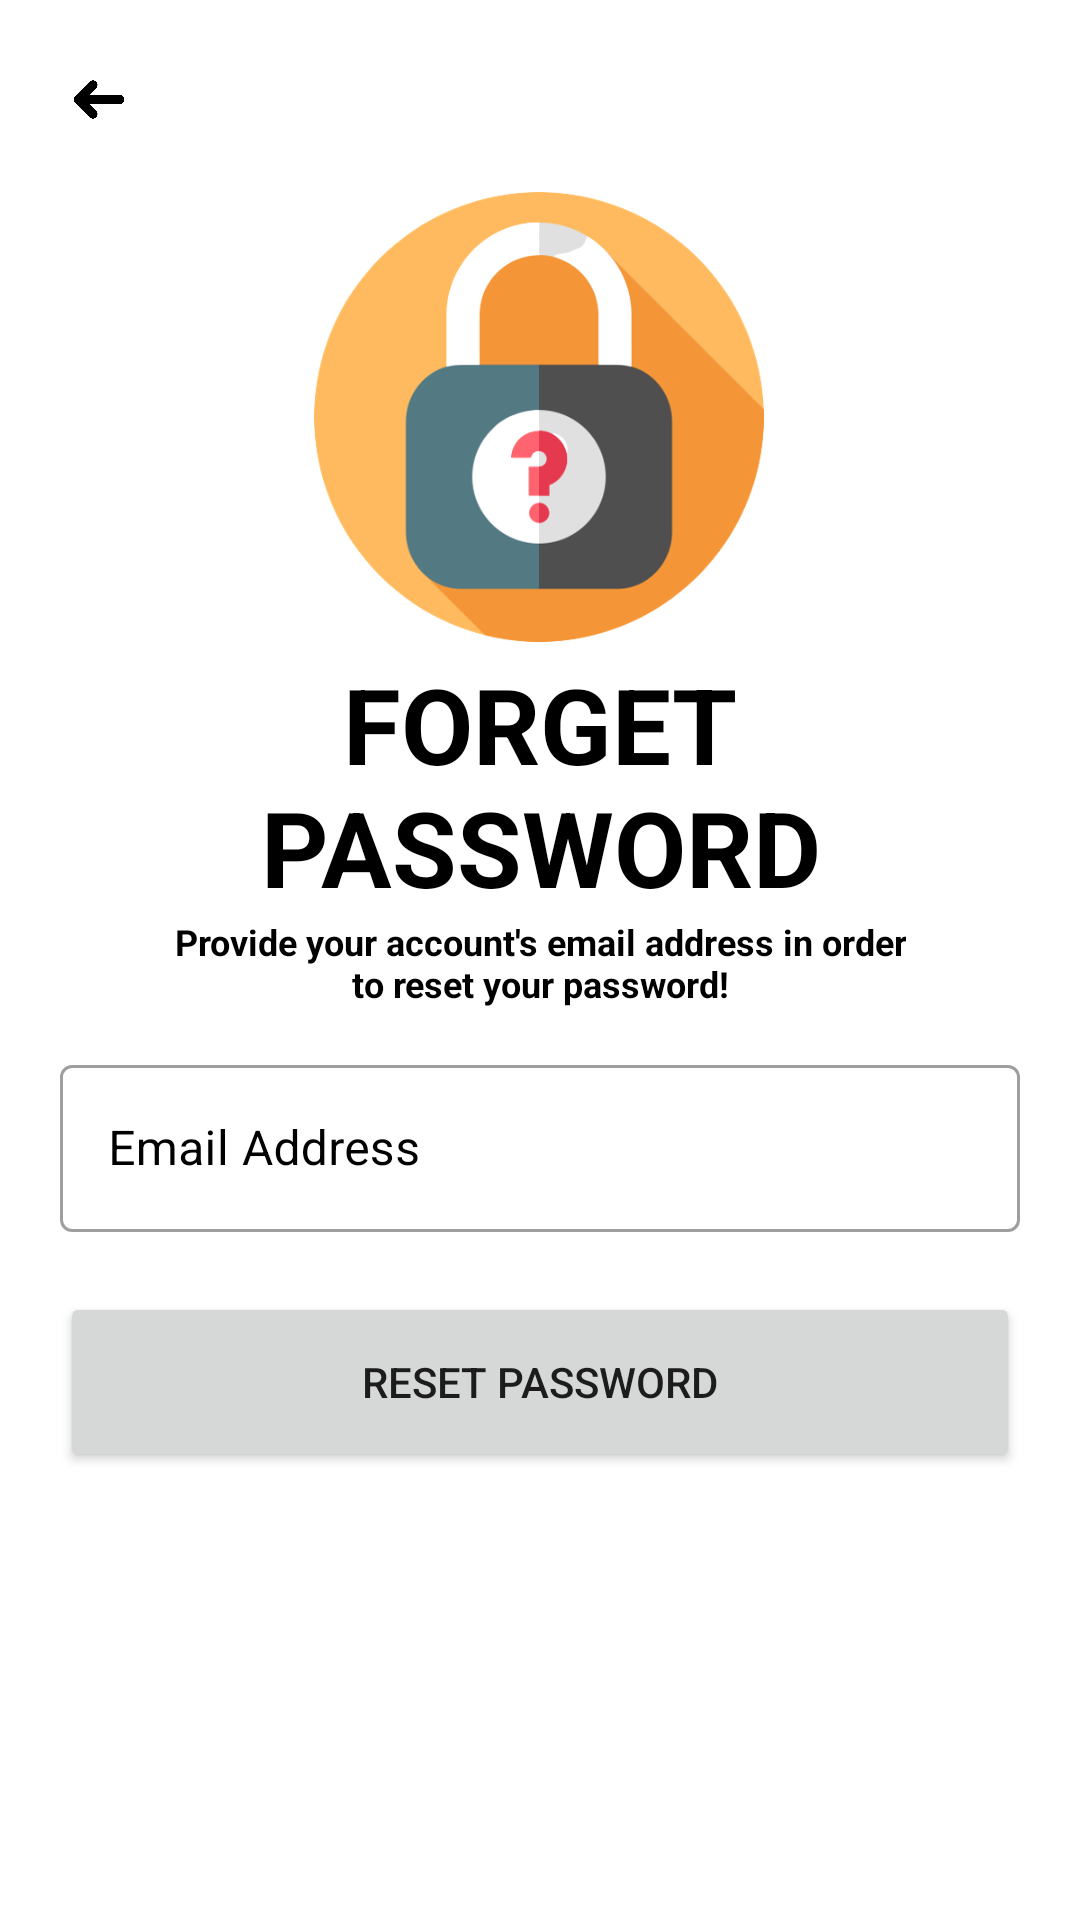

Icon bounding boxes for this 1080 x 1920 phone screenshot, format (x1, y1, x2, y2):
backbutton: (74, 80, 124, 119)
